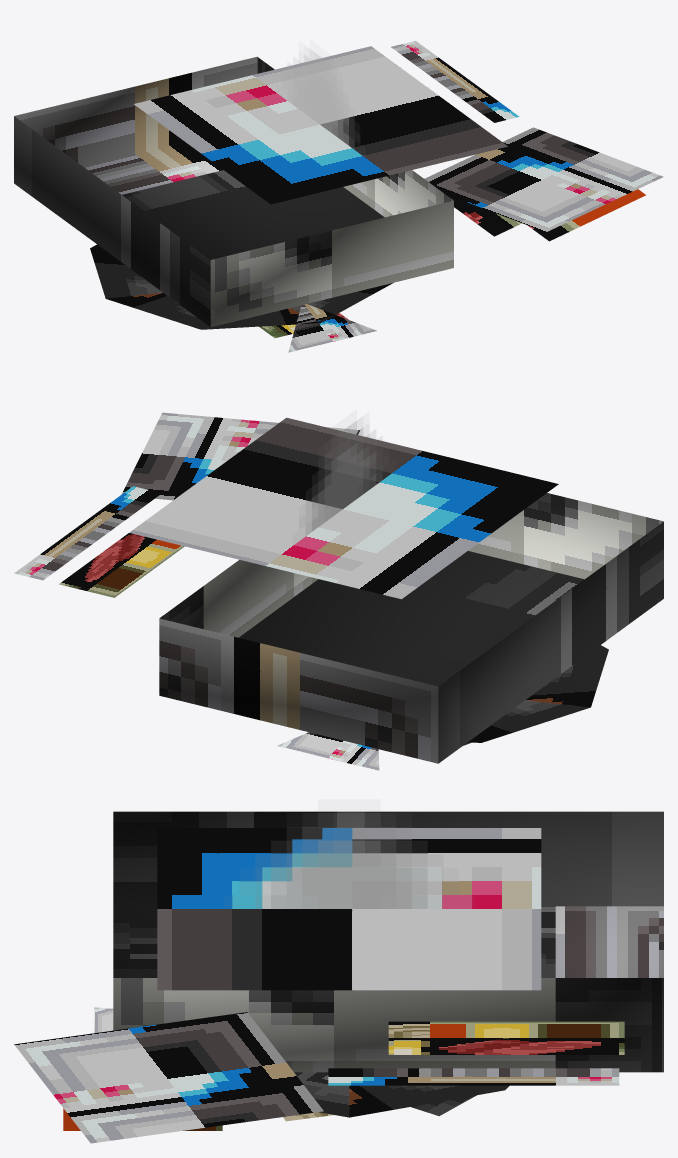
The picture shows the model from 3 angles, top to bottom: view 1: azimuth 30°, elevation 25°; view 2: azimuth 150°, elevation 25°; view 3: azimuth 270°, elevation 25°; orthographic projection. The views are drawn at different scales.
Parts seen in each view (by area): view 1: 3624jun_yaki00; view 2: 3624jun_yaki00; view 3: 3624jun_yaki00.
Boxes of the visible parts, left/top/right/bottom form: 3624jun_yaki00: left=14, top=41, right=663, bottom=352; 3624jun_yaki00: left=14, top=412, right=663, bottom=770; 3624jun_yaki00: left=14, top=811, right=663, bottom=1143.
Bounding box in the file's own units: 0.9575 × 0.4465 × 0.8262.
Materials: 4 (4 with a texture image).
